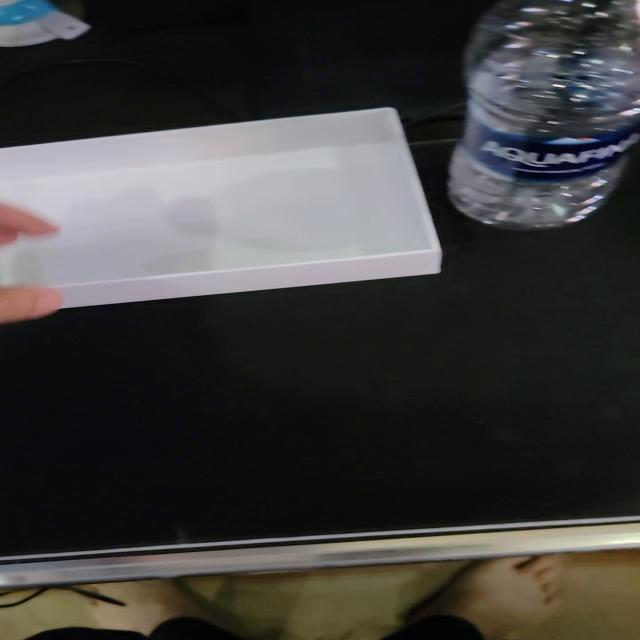Anorganik: (444, 0, 640, 234)
Organik: (0, 102, 454, 324)
